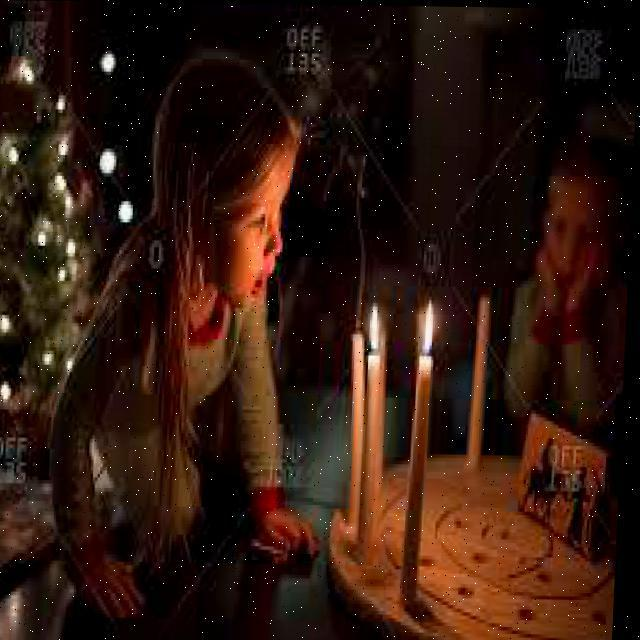Fire: (418, 292, 444, 355), (365, 295, 383, 351)
